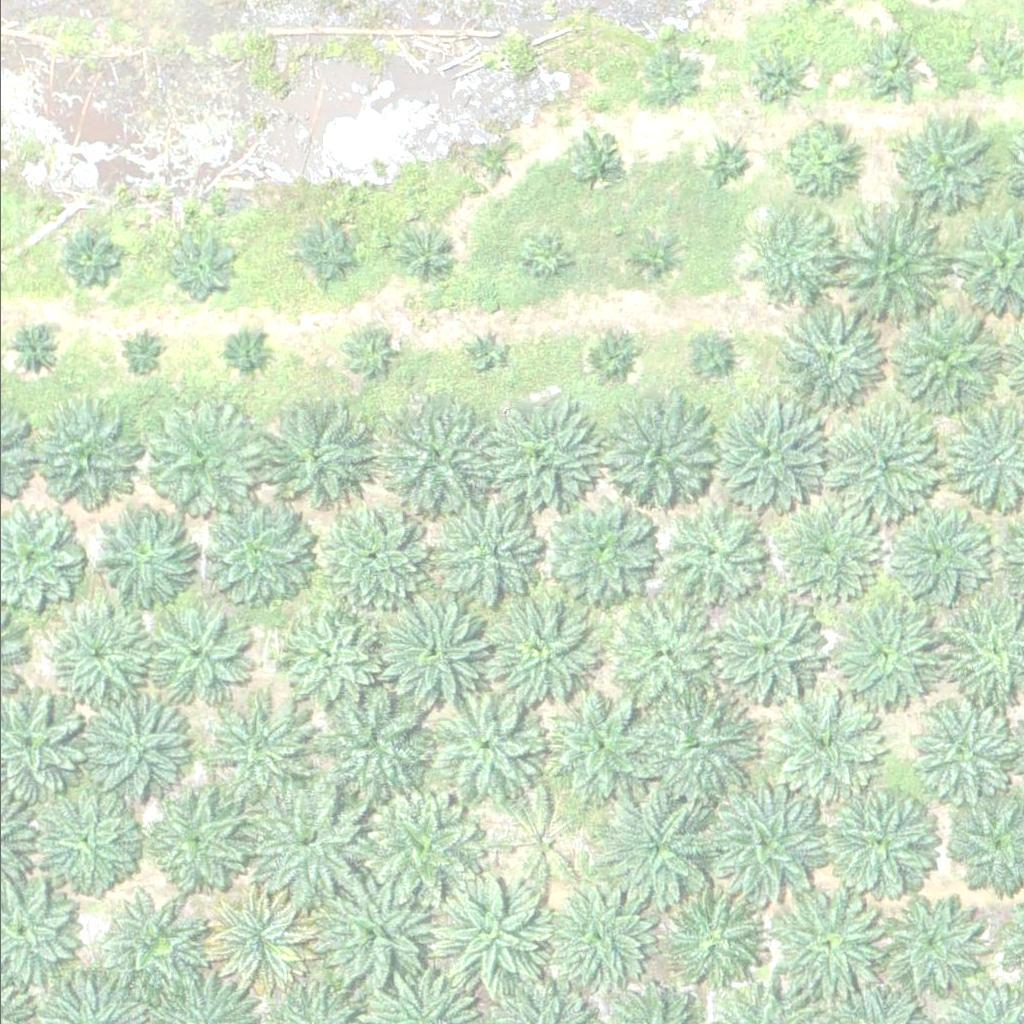Kelapa_Sawit: (816, 597, 942, 722), (708, 582, 834, 707), (826, 411, 940, 524), (771, 885, 885, 998), (140, 404, 254, 517), (872, 894, 985, 1007), (826, 787, 939, 900), (771, 297, 884, 410), (482, 401, 595, 514), (380, 402, 493, 515), (265, 402, 378, 515), (771, 489, 884, 602), (610, 598, 723, 711), (317, 685, 430, 798), (425, 693, 538, 806), (542, 689, 655, 802), (640, 683, 753, 796), (364, 789, 477, 902), (199, 883, 312, 996), (246, 785, 359, 898), (141, 781, 254, 894), (196, 494, 309, 607), (882, 303, 996, 415), (826, 211, 940, 323), (770, 689, 884, 801), (710, 789, 824, 901), (533, 884, 647, 996), (21, 397, 135, 509), (897, 698, 1010, 810), (705, 399, 818, 511), (593, 399, 706, 511), (544, 496, 657, 608), (659, 503, 772, 615), (486, 601, 599, 713), (379, 597, 492, 709), (599, 791, 712, 903), (315, 876, 428, 988), (437, 877, 550, 989), (201, 693, 314, 805), (489, 792, 590, 892), (878, 502, 979, 602), (325, 512, 426, 612), (439, 508, 540, 608), (271, 609, 372, 709), (33, 791, 134, 891), (88, 698, 189, 798), (139, 606, 240, 706), (883, 111, 983, 211), (663, 887, 763, 987), (47, 607, 147, 707), (93, 511, 193, 611), (108, 901, 197, 988), (772, 113, 860, 200), (745, 213, 833, 300), (166, 231, 241, 306), (745, 48, 808, 111), (51, 227, 114, 290), (1, 317, 64, 380), (855, 42, 918, 104), (391, 227, 454, 289), (294, 226, 357, 288), (693, 136, 756, 198), (346, 329, 397, 379), (222, 325, 273, 375), (639, 55, 689, 105), (575, 131, 625, 181), (519, 233, 569, 283), (628, 234, 678, 284), (115, 329, 165, 379), (687, 331, 737, 381), (584, 332, 634, 382), (473, 148, 511, 186), (464, 331, 502, 369)
